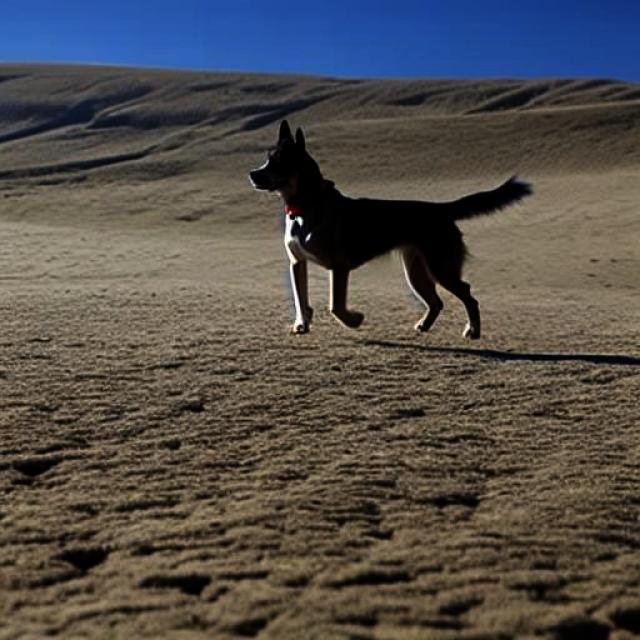Dog: (248, 120, 532, 339)
